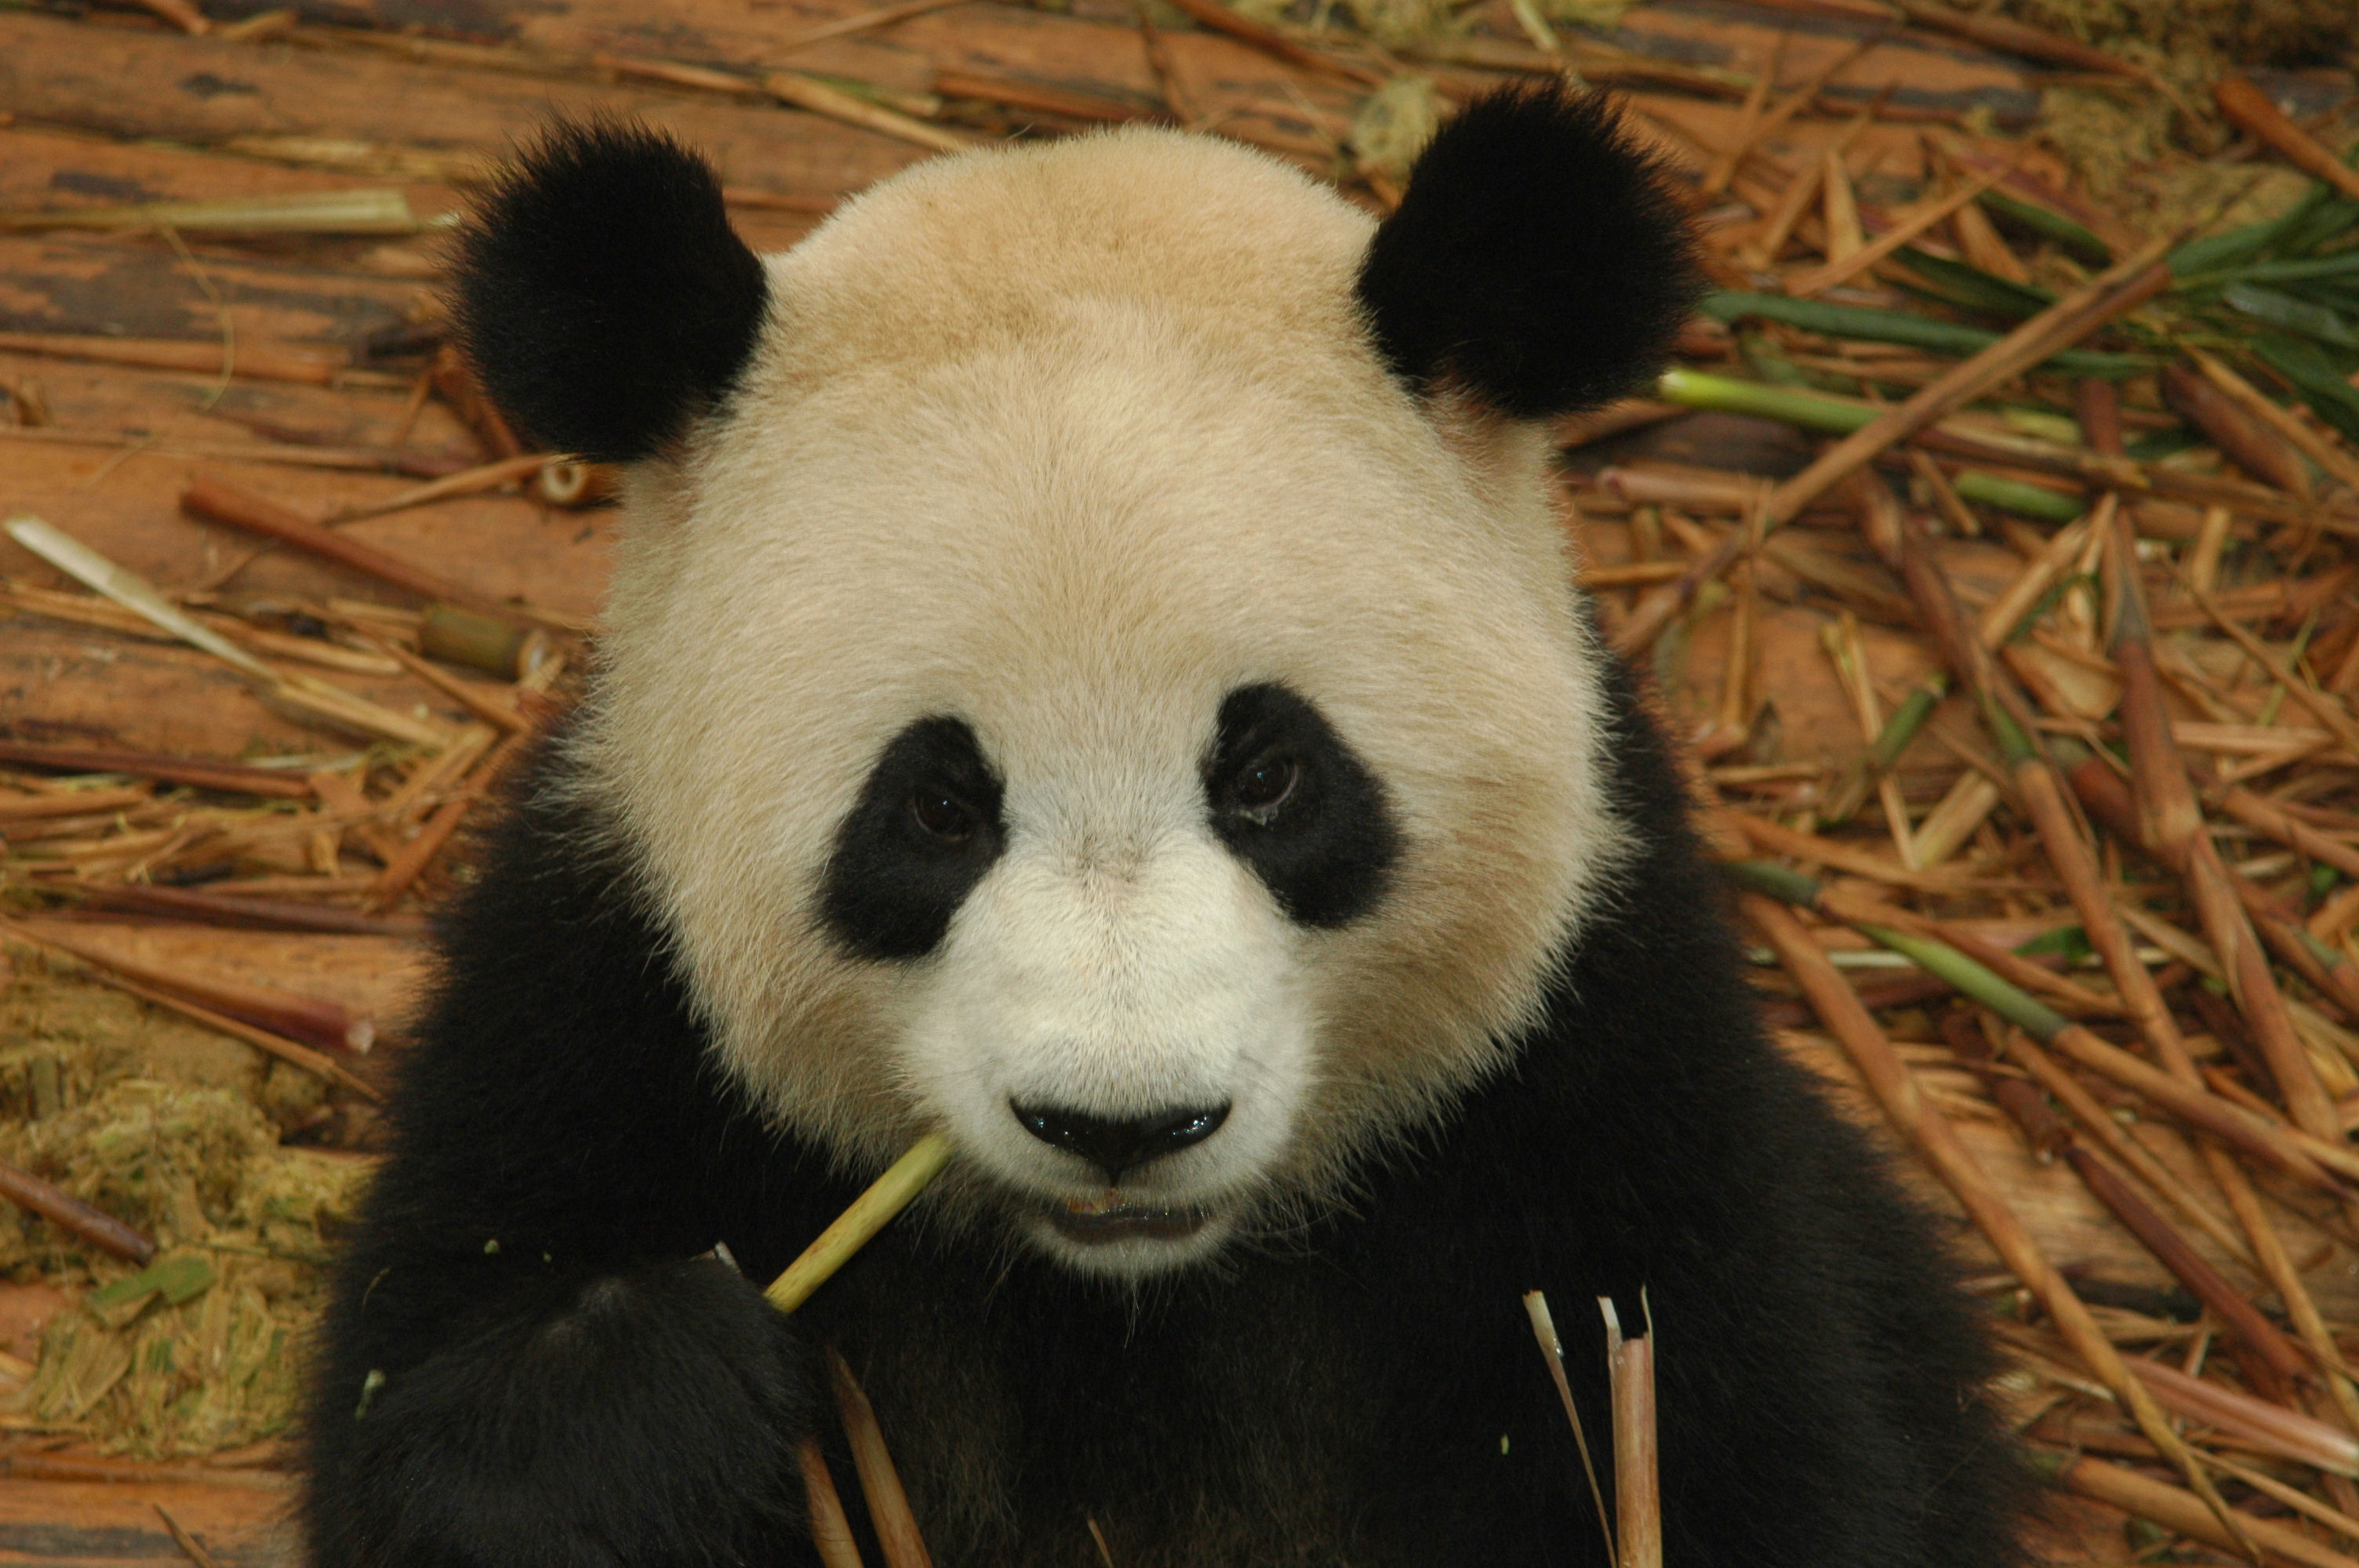panda: (282, 35, 2063, 1568)
